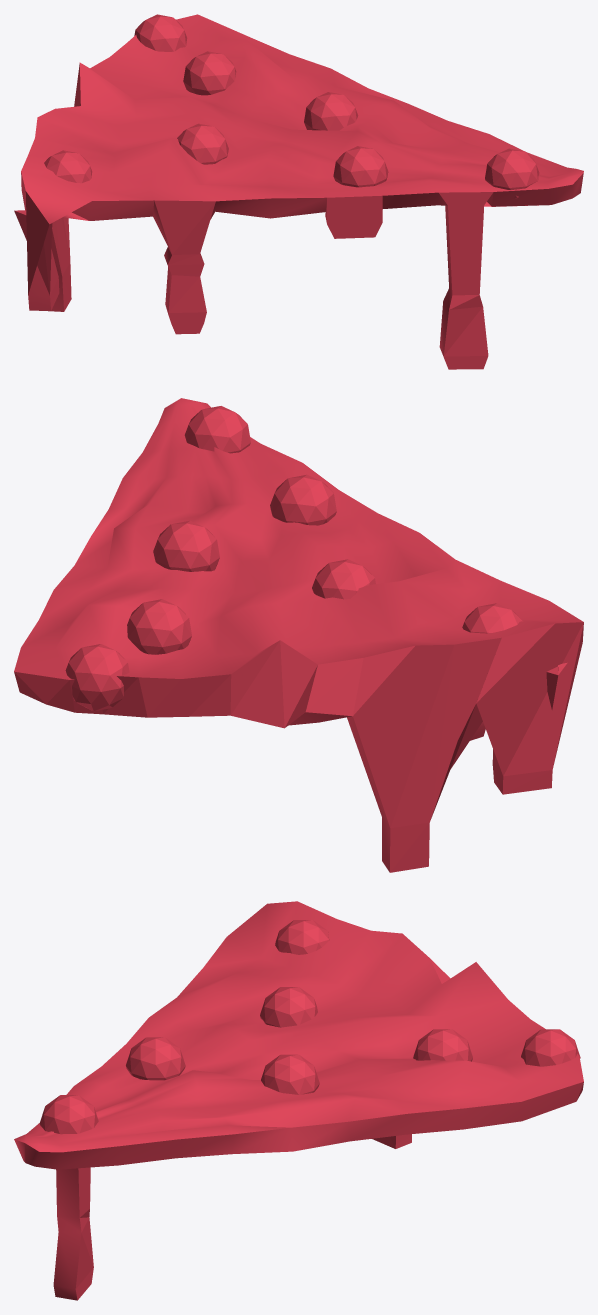
The model's file is jelly.glb.
The picture shows the model from 3 angles, top to bottom: view 1: azimuth 30°, elevation 25°; view 2: azimuth 150°, elevation 25°; view 3: azimuth 270°, elevation 25°; orthographic projection. The views are drawn at different scales.
Parts seen in each view (by area): view 1: Jelly.001, Icosphere.001, Icosphere.004, Icosphere.006, Icosphere.003, Icosphere.002, Icosphere, Icosphere.005; view 2: Jelly.001, Icosphere, Icosphere.001, Icosphere.003, Icosphere.004, Icosphere.006, Icosphere.002, Icosphere.005; view 3: Jelly.001, Icosphere.004, Icosphere.003, Icosphere.002, Icosphere.006, Icosphere, Icosphere.001, Icosphere.005.
Part boxes in pixels (x1,y1,x2,y2): Jelly.001: [14, 14, 583, 369]; Icosphere.001: [183, 51, 236, 95]; Icosphere.004: [333, 146, 388, 187]; Icosphere.006: [485, 148, 539, 198]; Icosphere.003: [304, 92, 358, 130]; Icosphere.002: [177, 123, 228, 164]; Icosphere: [134, 14, 187, 51]; Icosphere.005: [44, 150, 92, 183]; Jelly.001: [14, 398, 583, 872]; Icosphere: [65, 644, 129, 711]; Icosphere.001: [127, 599, 191, 654]; Icosphere.003: [153, 520, 219, 571]; Icosphere.004: [270, 474, 336, 525]; Icosphere.006: [184, 406, 250, 453]; Icosphere.002: [312, 559, 375, 599]; Icosphere.005: [462, 603, 522, 633]; Jelly.001: [14, 901, 583, 1300]; Icosphere.004: [126, 1037, 185, 1080]; Icosphere.003: [261, 1054, 319, 1094]; Icosphere.002: [260, 987, 317, 1027]; Icosphere.006: [39, 1095, 98, 1134]; Icosphere: [521, 1029, 580, 1066]; Icosphere.001: [413, 1029, 472, 1061]; Icosphere.005: [275, 920, 329, 954].
Size of the model in its own units: 1.85 by 0.8357 by 1.9.
